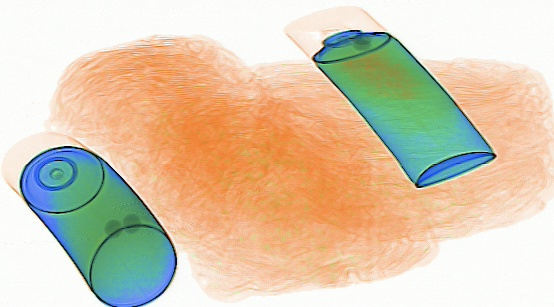pressure: (282, 0, 498, 190), (0, 129, 176, 306)
